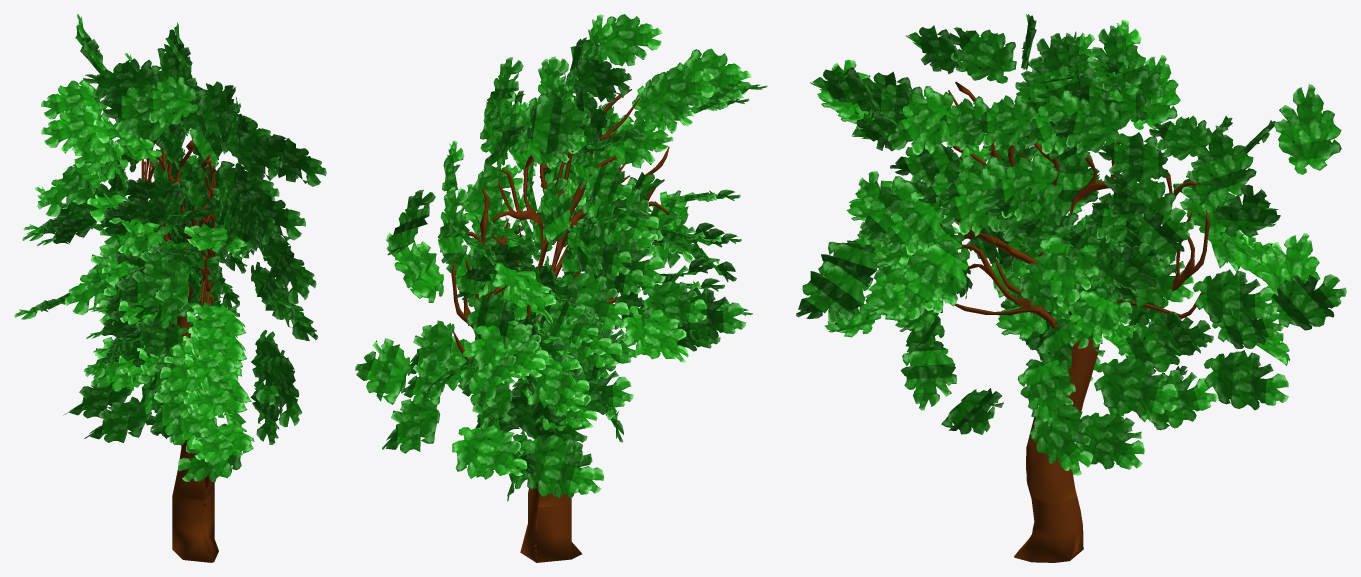
The model's file is tree3.fbx.
3 views of the same model, side by side, from view 1: azimuth 30°, elevation 25°; view 2: azimuth 150°, elevation 25°; view 3: azimuth 270°, elevation 25° (orthographic). The views are drawn at different scales.
Parts seen in each view (by area): view 1: c090c787-1d18-485c-aed2-695b9deaaf12|d2bc2ccb-dd17-4b76-b26a (×72), c090c787-1d18-485c-aed2-695b9deaaf12; view 2: c090c787-1d18-485c-aed2-695b9deaaf12|d2bc2ccb-dd17-4b76-b26a (×73), c090c787-1d18-485c-aed2-695b9deaaf12; view 3: c090c787-1d18-485c-aed2-695b9deaaf12|d2bc2ccb-dd17-4b76-b26a (×70), c090c787-1d18-485c-aed2-695b9deaaf12.
Boxes of the visible parts, bbox=[...] form: c090c787-1d18-485c-aed2-695b9deaaf12|d2bc2ccb-dd17-4b76-b26a (×72): bbox=[14, 14, 326, 482]; c090c787-1d18-485c-aed2-695b9deaaf12: bbox=[141, 135, 218, 562]; c090c787-1d18-485c-aed2-695b9deaaf12|d2bc2ccb-dd17-4b76-b26a (×73): bbox=[355, 14, 767, 498]; c090c787-1d18-485c-aed2-695b9deaaf12: bbox=[451, 89, 669, 562]; c090c787-1d18-485c-aed2-695b9deaaf12|d2bc2ccb-dd17-4b76-b26a (×70): bbox=[796, 25, 1346, 475]; c090c787-1d18-485c-aed2-695b9deaaf12: bbox=[940, 81, 1209, 562].
Size of the model in its own units: 40.48 by 108 by 101.
Materials: 2 (2 with a texture image).
